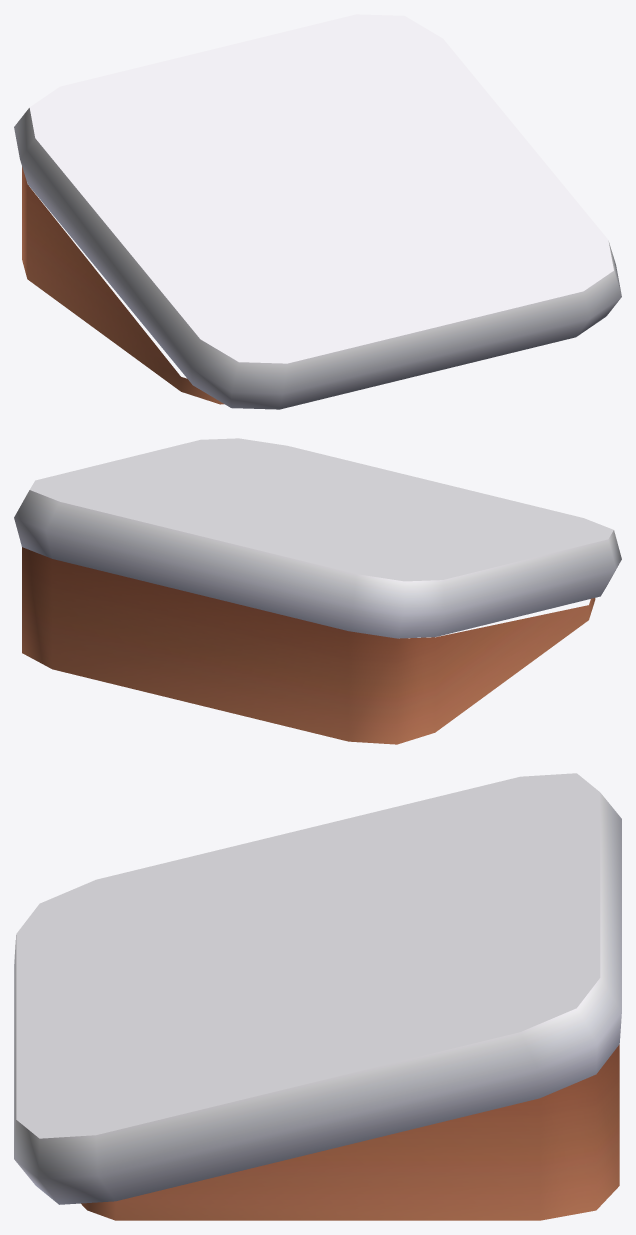
The model's file is kenney-platformer-block-snow-large-slope.glb.
3 renders of one model, top to bottom at view 1: azimuth 30°, elevation 25°; view 2: azimuth 150°, elevation 25°; view 3: azimuth 270°, elevation 25°, orthographic. The views are drawn at different scales.
Visible parts, largest first — view 1: block-snow-large-slope; view 2: block-snow-large-slope; view 3: block-snow-large-slope.
Boxes of the visible parts, <box> form: block-snow-large-slope: <box>14,14,621,409</box>; block-snow-large-slope: <box>14,438,621,744</box>; block-snow-large-slope: <box>14,773,621,1220</box>.
Bounding box in the file's own units: 2.08 × 0.759 × 2.01.
Materials: 1 (1 with a texture image).
